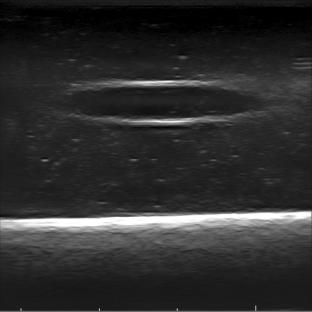vessel: (65, 78, 265, 125)
